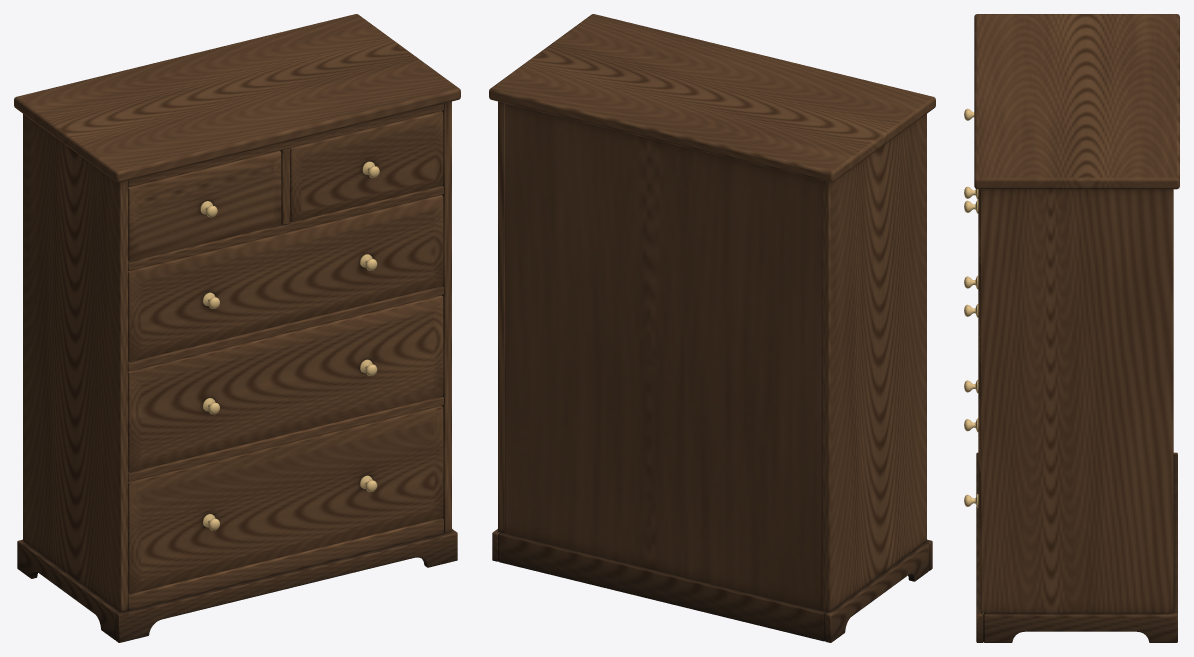
Rendered from chest.gltf.
The picture shows the model from 3 angles, left to right: view 1: azimuth 30°, elevation 25°; view 2: azimuth 150°, elevation 25°; view 3: azimuth 270°, elevation 25°; orthographic projection.
Parts seen in each view (by area): view 1: Frame, Drawer5Box, Drawer4Box, Drawer3Box, Drawer1Box, Drawer2Box; view 2: Frame; view 3: Frame, Drawer5Box, Drawer4Box.
Part boxes in pixels (x1,y1,x2,y2): Frame: (14, 14, 460, 642); Drawer5Box: (128, 405, 443, 593); Drawer4Box: (128, 295, 443, 472); Drawer3Box: (128, 195, 443, 361); Drawer1Box: (128, 150, 281, 261); Drawer2Box: (289, 111, 443, 221); Frame: (489, 14, 935, 642); Frame: (974, 14, 1179, 642); Drawer5Box: (978, 458, 980, 591); Drawer4Box: (978, 349, 980, 471).
Bounding box in the file's own units: 0.955 × 1.25 × 0.525.
2 materials, 1 textured.
